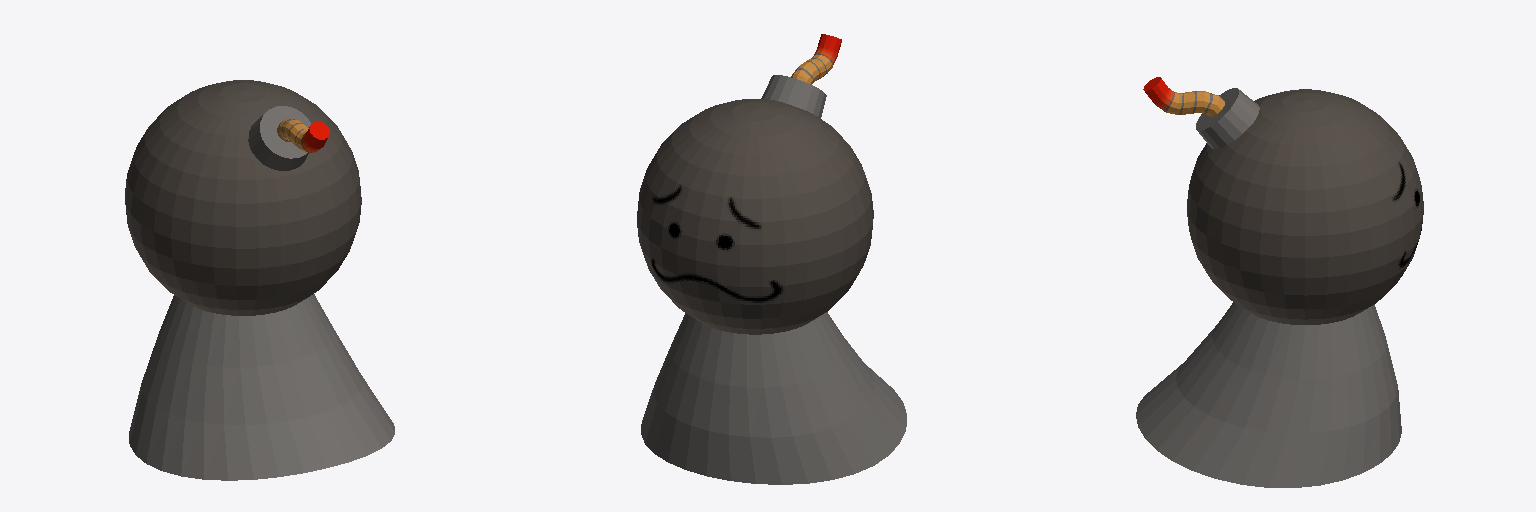
3 views of the same model, side by side, from view 1: azimuth 30°, elevation 25°; view 2: azimuth 150°, elevation 25°; view 3: azimuth 270°, elevation 25° (orthographic).
Visible parts, largest first — view 1: bomb; view 2: bomb; view 3: bomb.
Boxes of the visible parts, box(x1,y1,x2,y2) form: bomb: box(125, 80, 394, 480); bomb: box(637, 34, 906, 484); bomb: box(1136, 77, 1423, 487).
Size of the model in its own units: 2.41 by 3.56 by 2.61.
1 materials, 1 textured.